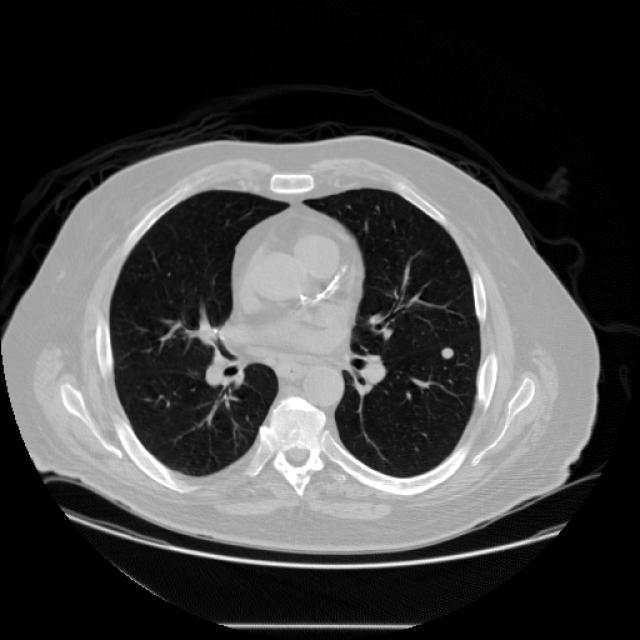nodule: (431, 336, 461, 366)
